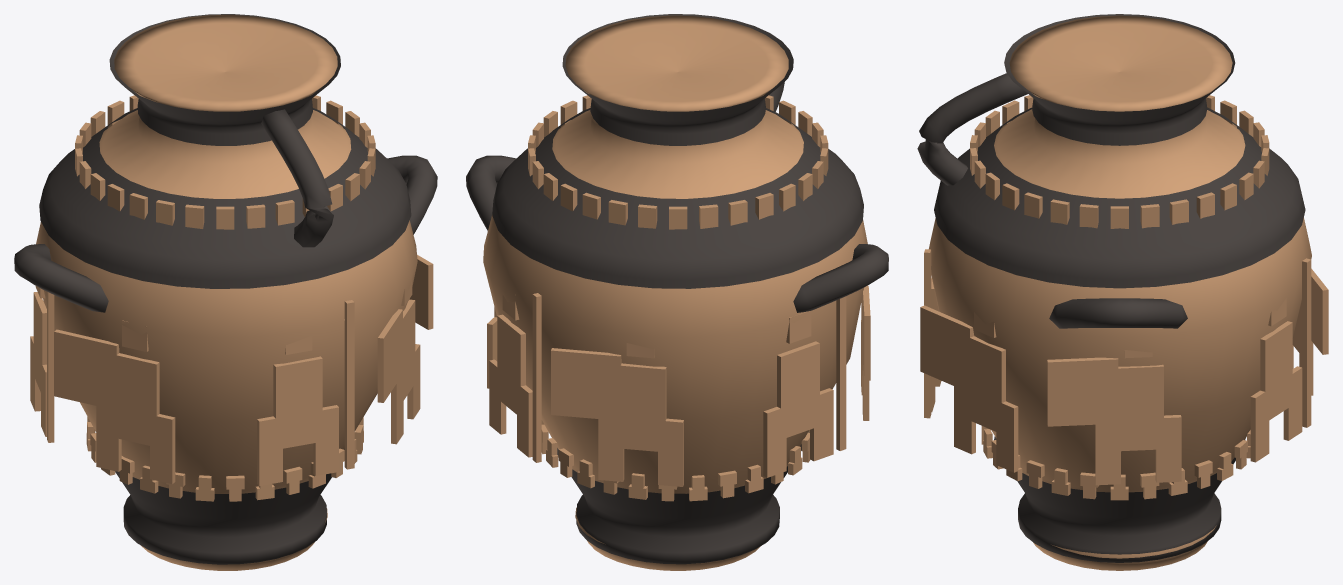
Rendered from hydria.glb.
3 views of the same model, side by side, from view 1: azimuth 30°, elevation 25°; view 2: azimuth 150°, elevation 25°; view 3: azimuth 270°, elevation 25° (orthographic).
Visible parts, largest first — view 1: vase_body, vase_glaze, vase_paint, vase_handles; view 2: vase_body, vase_glaze, vase_paint, vase_handles; view 3: vase_body, vase_glaze, vase_paint, vase_handles.
Part boxes in pixels (left/top/right/bottom): vase_body: left=36, top=15, right=417, bottom=570; vase_glaze: left=39, top=14, right=411, bottom=564; vase_paint: left=30, top=95, right=433, bottom=501; vase_handles: left=14, top=109, right=437, bottom=312; vase_body: left=483, top=15, right=867, bottom=570; vase_glaze: left=492, top=14, right=863, bottom=564; vase_paint: left=487, top=95, right=870, bottom=501; vase_handles: left=466, top=81, right=888, bottom=312; vase_body: left=929, top=15, right=1311, bottom=570; vase_glaze: left=934, top=14, right=1305, bottom=562; vase_paint: left=920, top=95, right=1328, bottom=500; vase_handles: left=917, top=73, right=1187, bottom=328.
Size of the model in its own units: 0.4685 by 0.51 by 0.4054.
